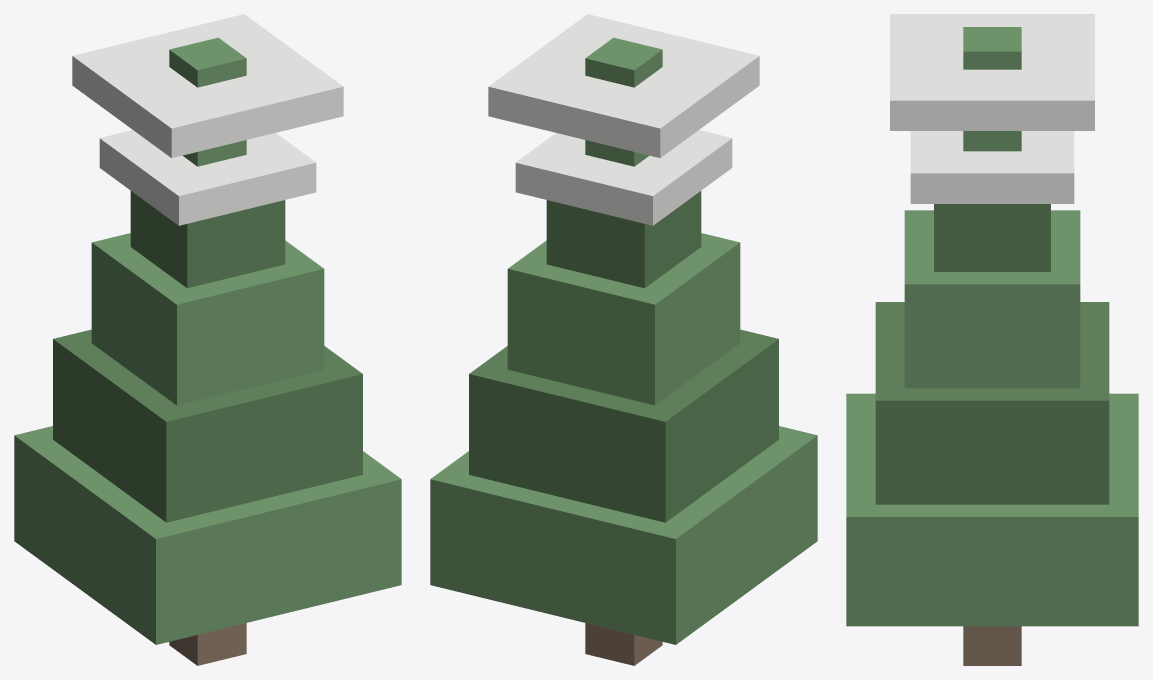
The model's file is propvar_pine_snowy.glb.
The picture shows the model from 3 angles, left to right: view 1: azimuth 30°, elevation 25°; view 2: azimuth 150°, elevation 25°; view 3: azimuth 270°, elevation 25°; orthographic projection. The views are drawn at different scales.
Visible parts, largest first — view 1: PropVar_Pine_Snowy; view 2: PropVar_Pine_Snowy; view 3: PropVar_Pine_Snowy.
Boxes of the visible parts, bbox=[...] form: PropVar_Pine_Snowy: bbox=[14, 14, 401, 665]; PropVar_Pine_Snowy: bbox=[430, 14, 817, 665]; PropVar_Pine_Snowy: bbox=[846, 14, 1138, 665].
Bounding box in the file's own units: 2.6 × 6.03 × 2.6.
